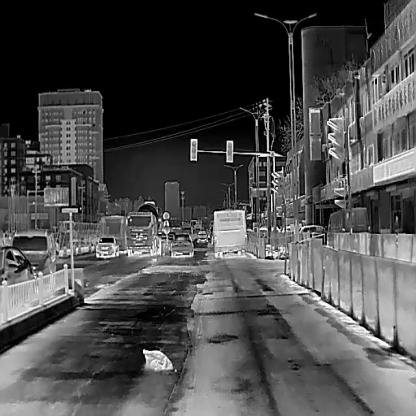bus: (212, 209, 248, 258)
car: (9, 229, 56, 288), (0, 245, 34, 318), (326, 205, 371, 248), (294, 223, 326, 244), (170, 232, 194, 256), (95, 234, 118, 258), (196, 230, 208, 242), (157, 230, 167, 243), (209, 219, 214, 244), (167, 232, 175, 242), (206, 227, 210, 238)
truck: (123, 198, 160, 257), (182, 224, 192, 235)
